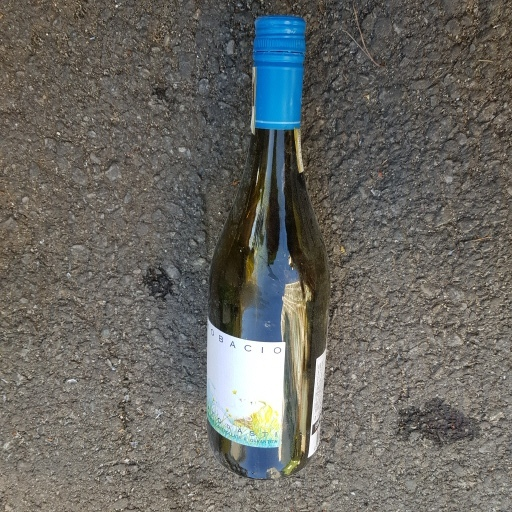Glass_2: (199, 15, 332, 481)
